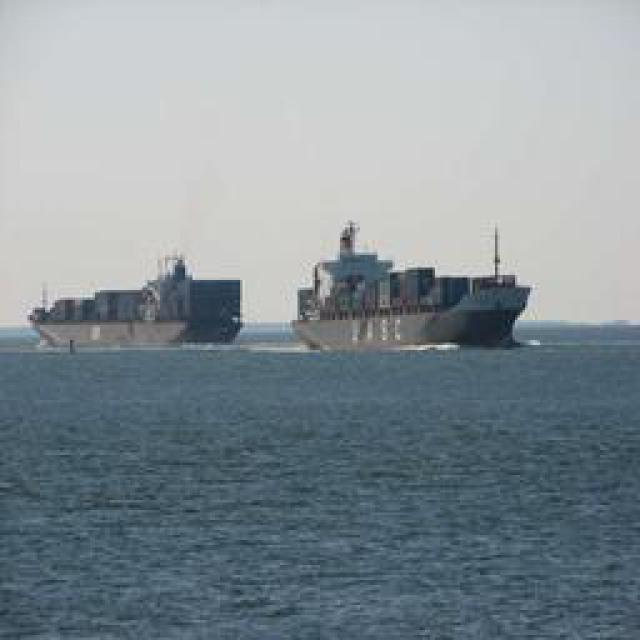Ship: (290, 225, 535, 350), (27, 255, 246, 353)
